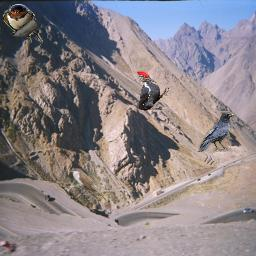Crow: (197, 112, 235, 152)
Cuckoo: (68, 168, 108, 201)
Swallow: (3, 4, 43, 43)
Woodpecker: (137, 71, 169, 111)
